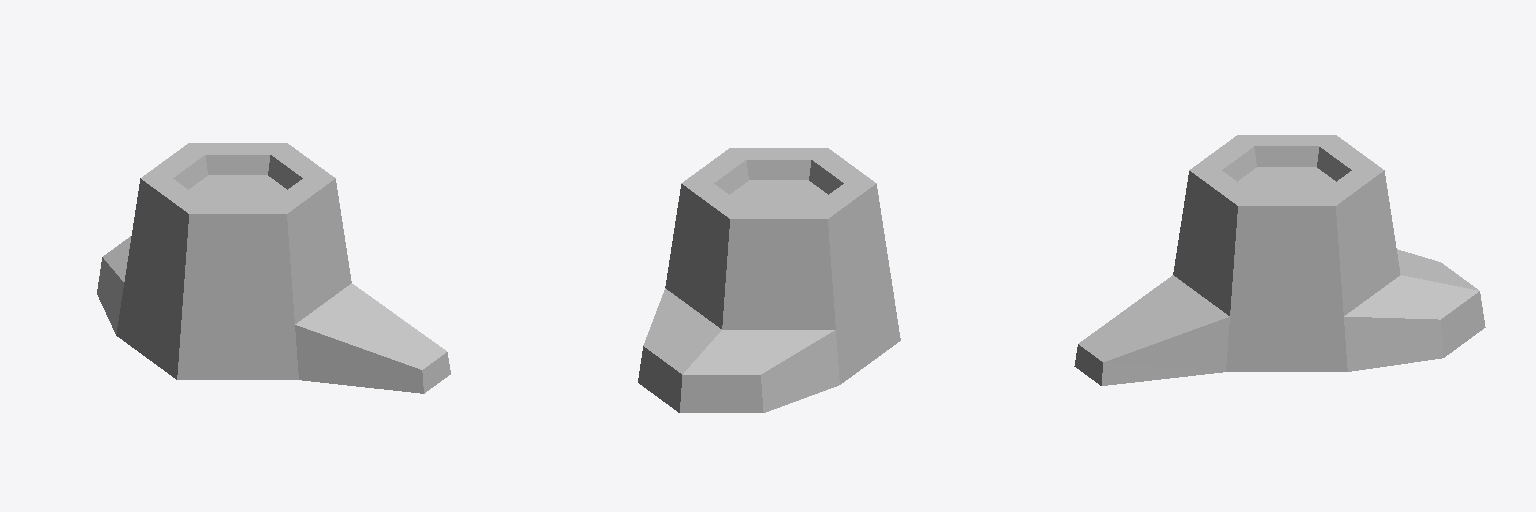
The model's file is stump.obj.
The picture shows the model from 3 angles: view 1: azimuth 30°, elevation 25°; view 2: azimuth 150°, elevation 25°; view 3: azimuth 270°, elevation 25°; orthographic projection.
Parts seen in each view (by area): view 1: stump_Cylinder.024; view 2: stump_Cylinder.024; view 3: stump_Cylinder.024.
Boxes of the visible parts, x1=… form: stump_Cylinder.024: x1=97, y1=143, x2=450, y2=393; stump_Cylinder.024: x1=638, y1=148, x2=900, y2=412; stump_Cylinder.024: x1=1074, y1=135, x2=1485, y2=385.
Bounding box in the file's own units: 0.7065 × 0.5013 × 1.19.